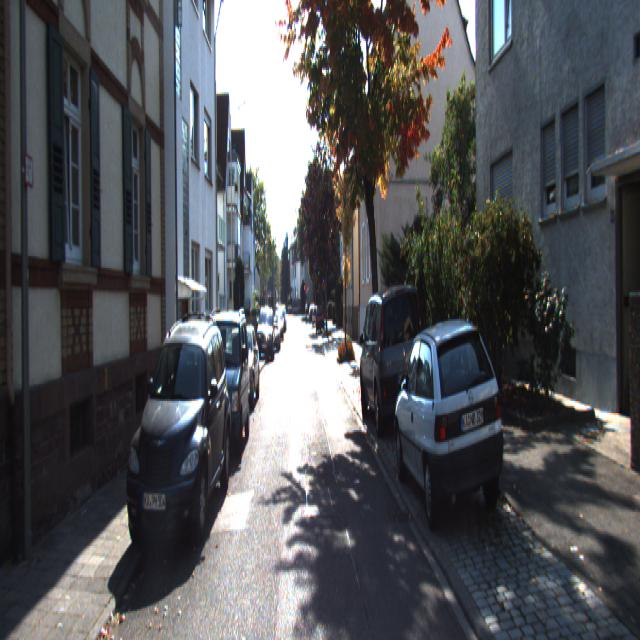Car: (120, 306, 232, 570), (390, 312, 516, 543), (356, 280, 428, 440), (197, 310, 250, 467), (220, 324, 261, 415), (256, 304, 275, 362)
